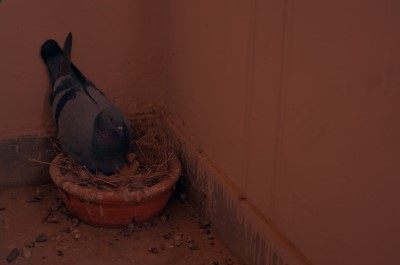pigeon: (40, 30, 132, 176)
